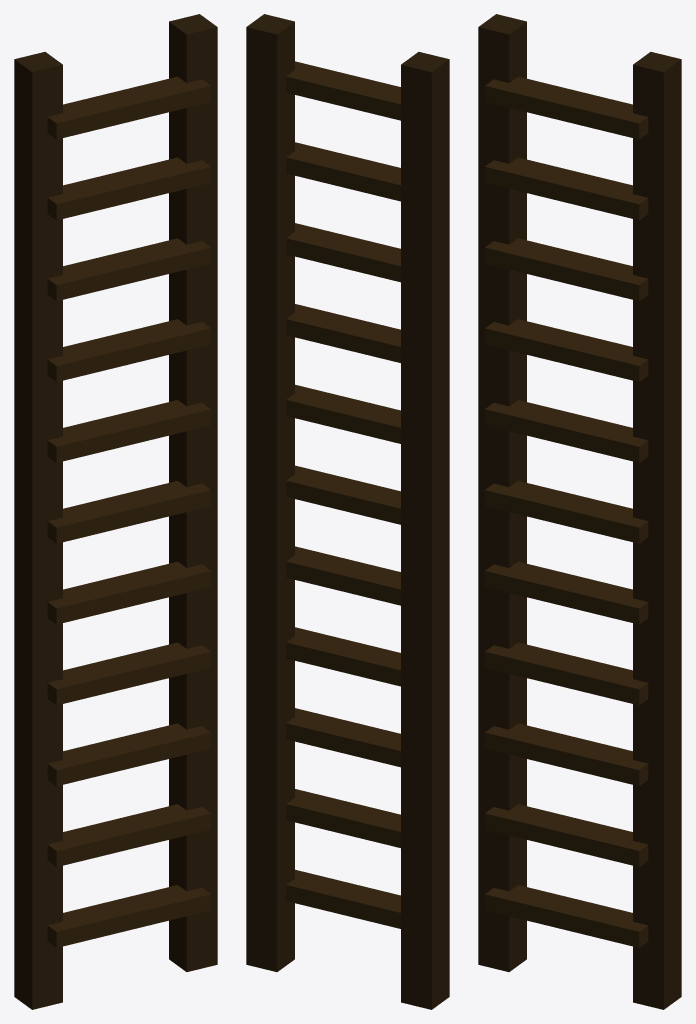
Rendered from SkeletonLair-5.obj.
3 renders of one model, left to right at view 1: azimuth 30°, elevation 25°; view 2: azimuth 150°, elevation 25°; view 3: azimuth 330°, elevation 25°, orthographic.
Bounding box in the file's own units: 1.2 × 5.8 × 0.3.
1 material, 1 textured.
